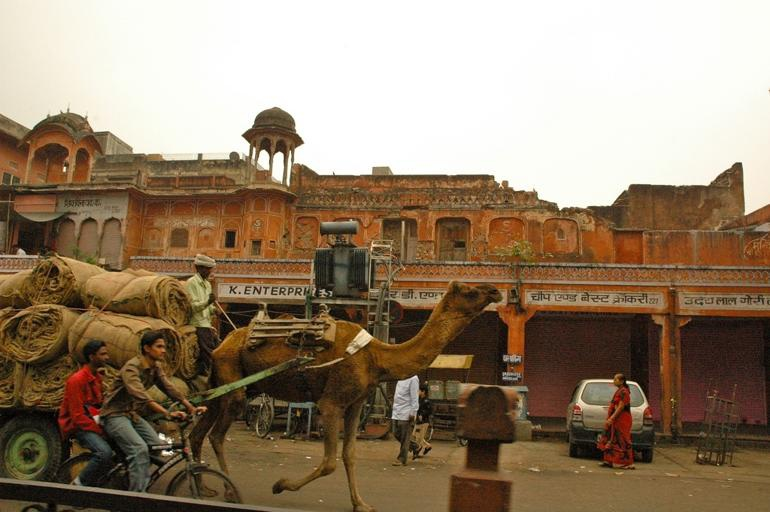non-vehicle: (46, 405, 241, 511), (244, 392, 275, 437)
